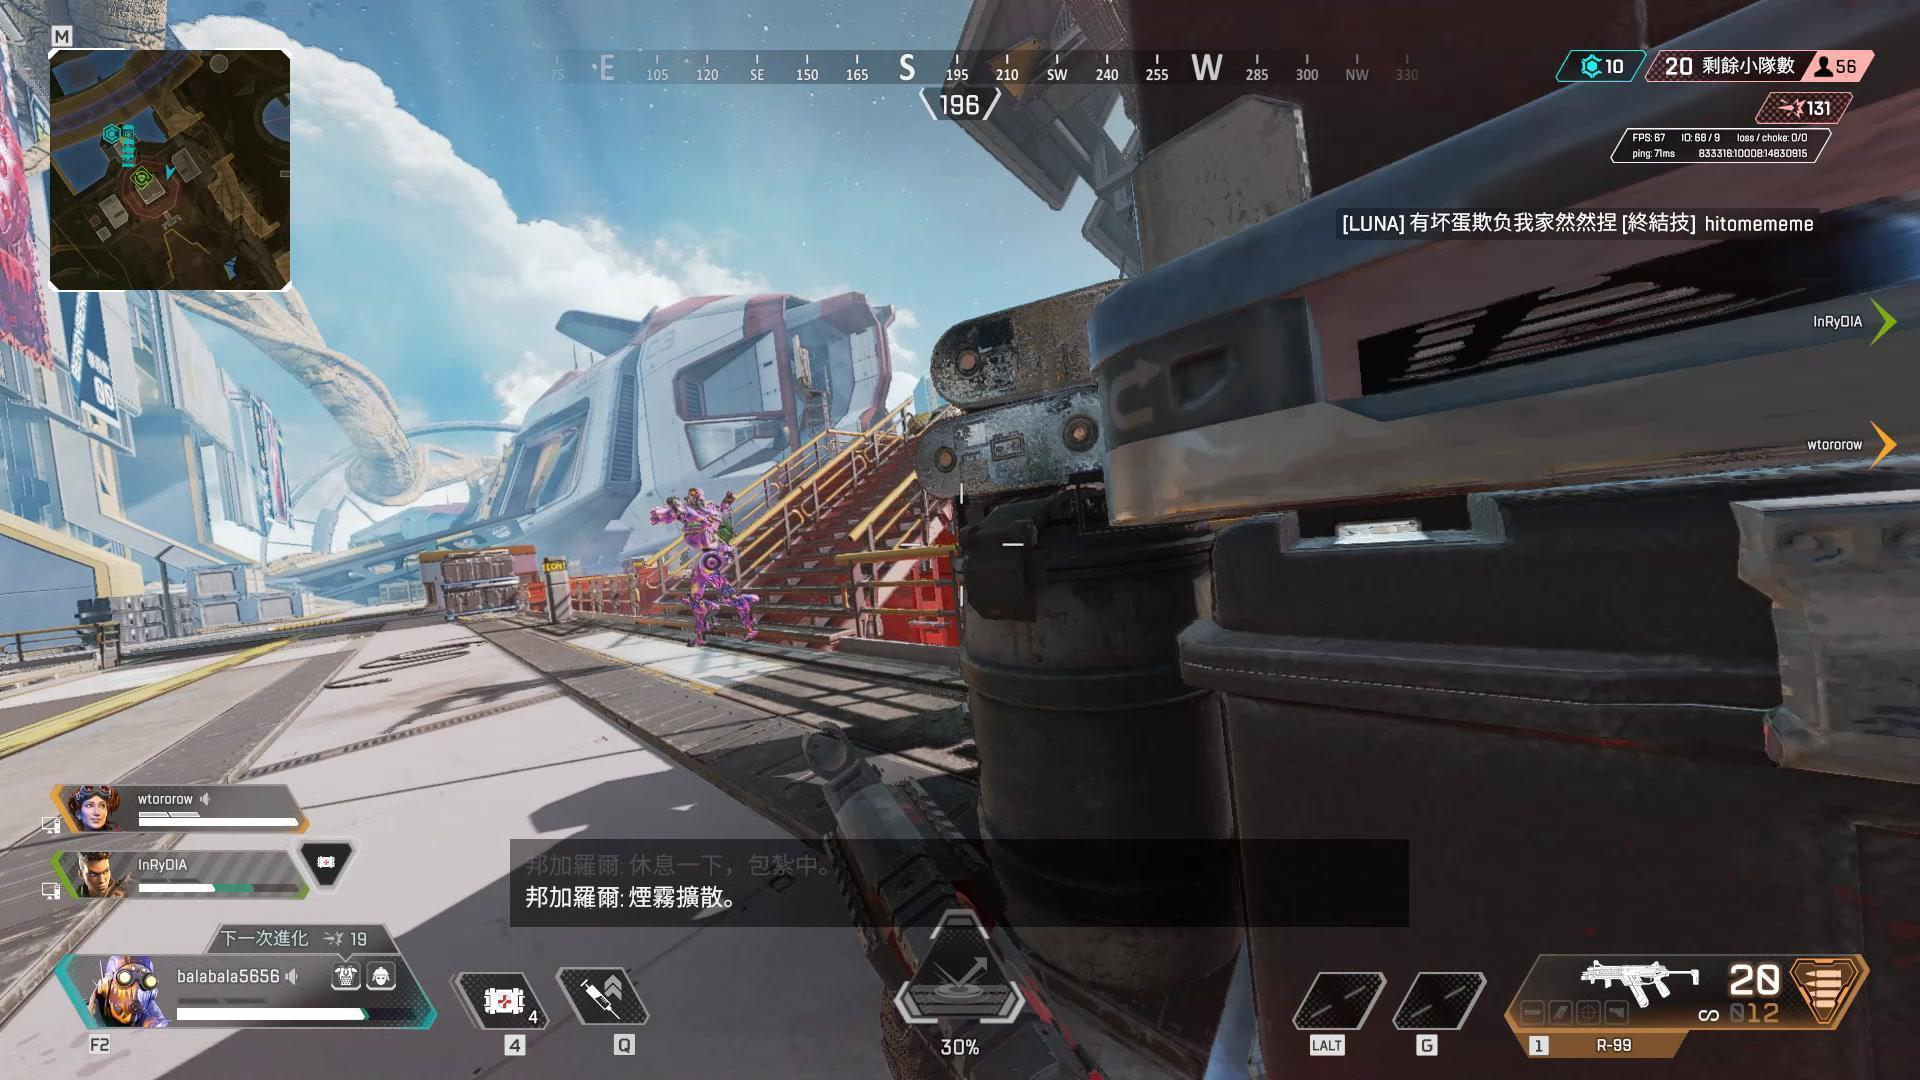avatar: (650, 484, 760, 650)
